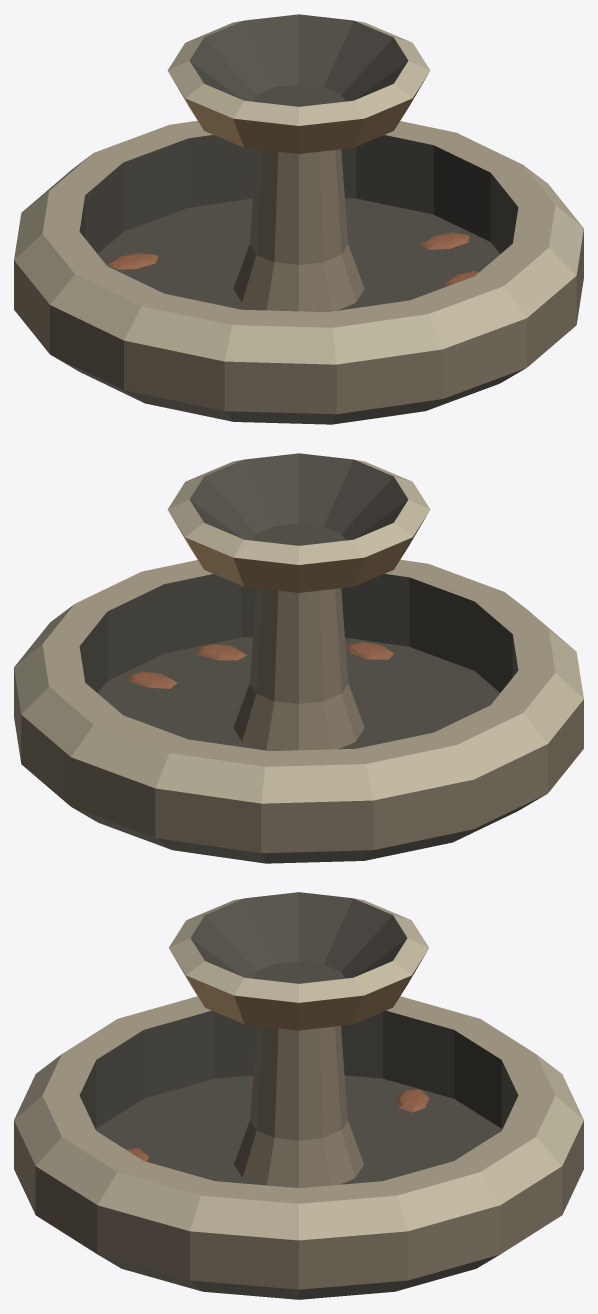
Rendered from dry-fountain.glb.
The picture shows the model from 3 angles, top to bottom: view 1: azimuth 30°, elevation 25°; view 2: azimuth 150°, elevation 25°; view 3: azimuth 270°, elevation 25°; orthographic projection.
Parts seen in each view (by area): view 1: dry-fountain__body; view 2: dry-fountain__body; view 3: dry-fountain__body.
Boxes of the visible parts, left/top/right/bottom form: dry-fountain__body: left=14, top=14, right=583, bottom=424; dry-fountain__body: left=14, top=453, right=583, bottom=863; dry-fountain__body: left=14, top=892, right=583, bottom=1299.
Size of the model in its own units: 2.1 by 1.04 by 2.1.
